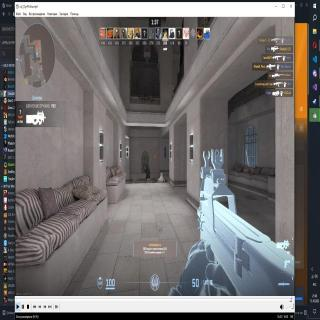T-Body: (143, 162, 152, 182)
T-Head: (145, 163, 149, 169)
